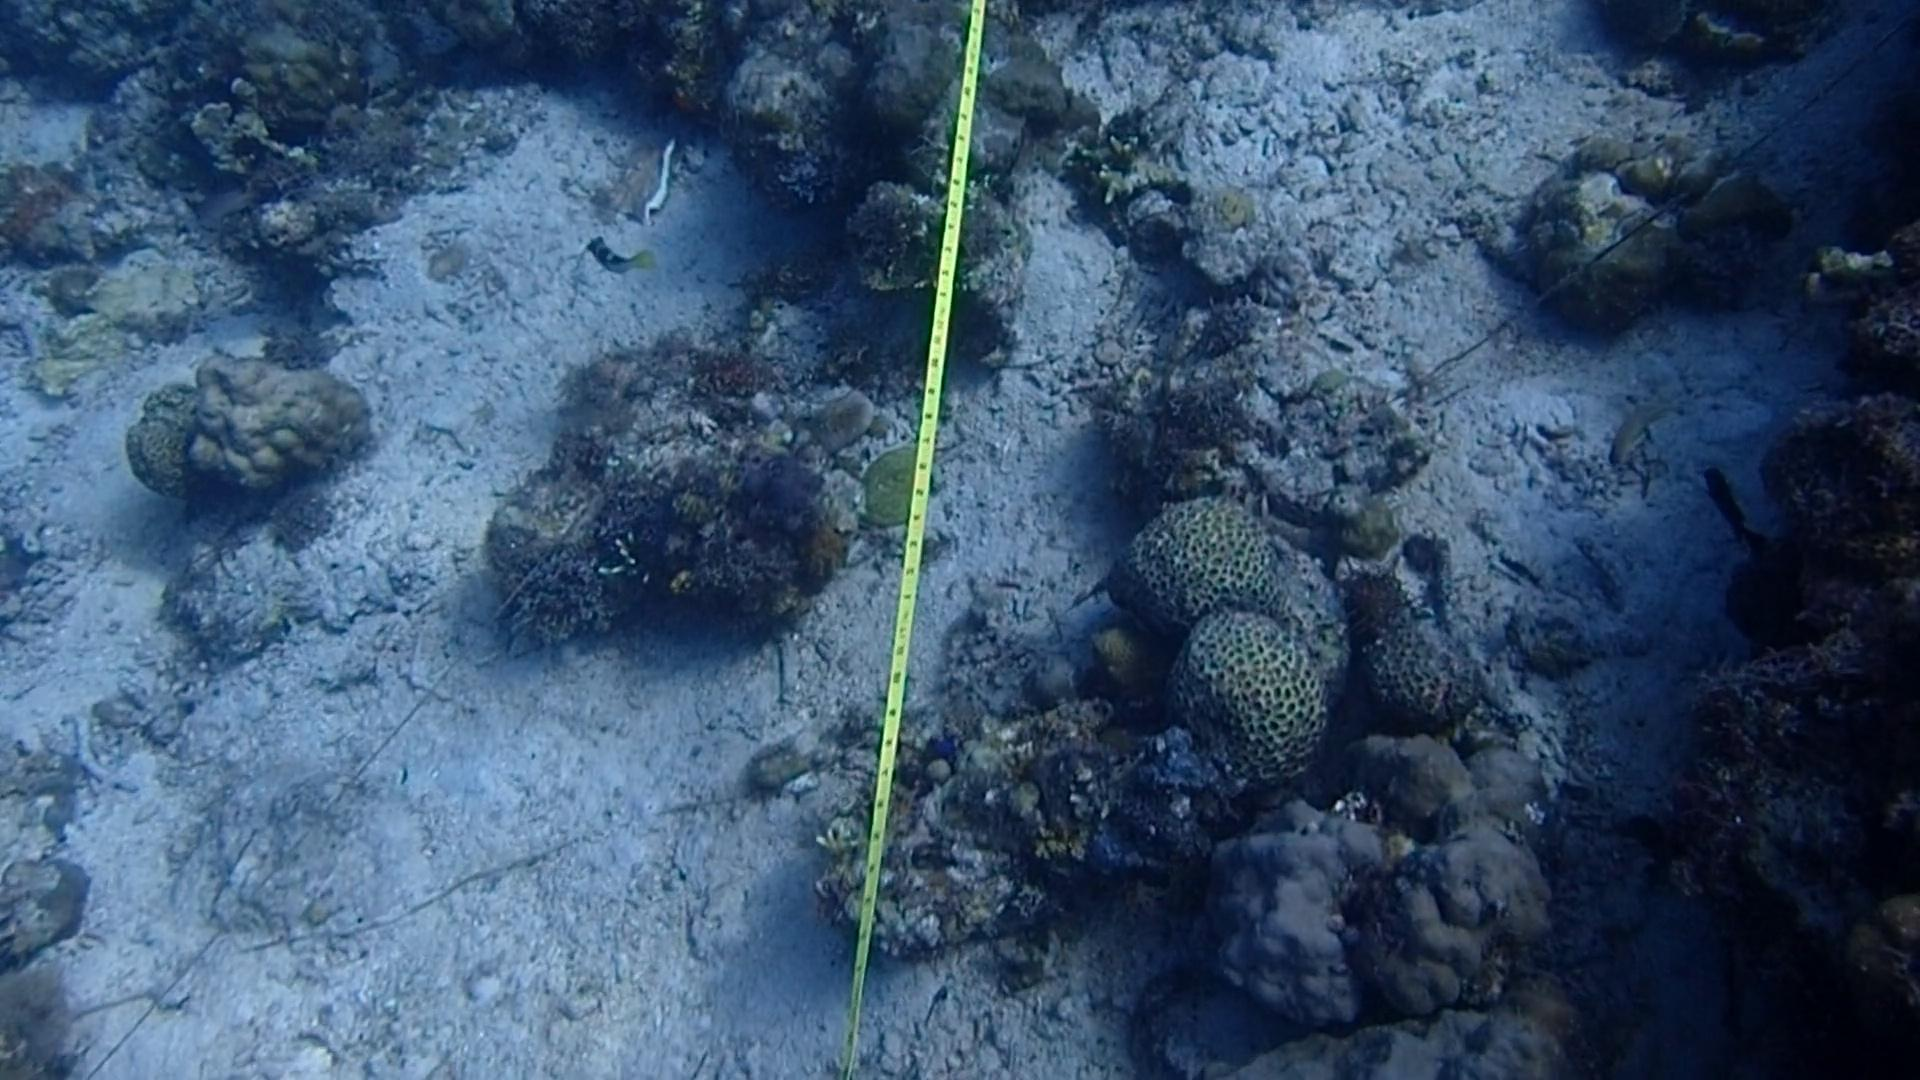Striped Fish: (583, 231, 650, 290)
